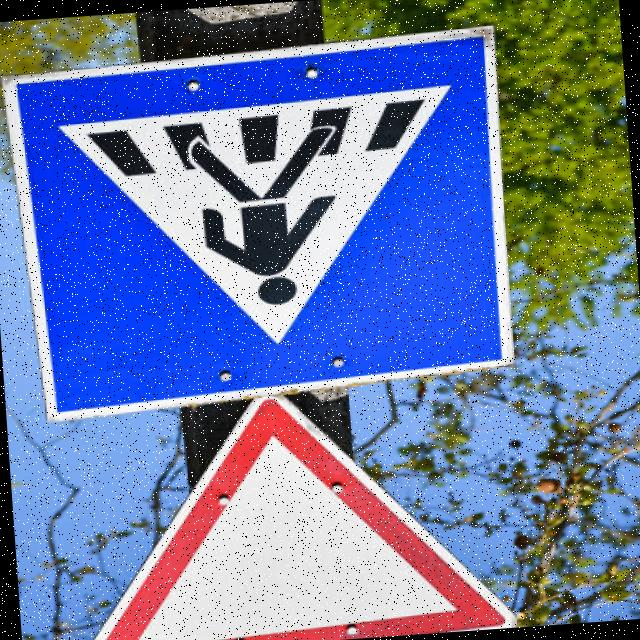crosswalk: (0, 10, 538, 421)
give_way: (20, 379, 526, 640)
